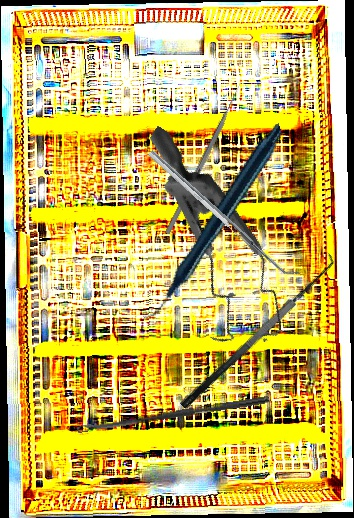Handpiece: (97, 123, 326, 320)
Pusher: (164, 80, 245, 236)
Spatula Surgical: (167, 248, 344, 411), (147, 144, 301, 284)
Speculum: (76, 125, 338, 368)
Surgical Spoon: (76, 394, 270, 434)
